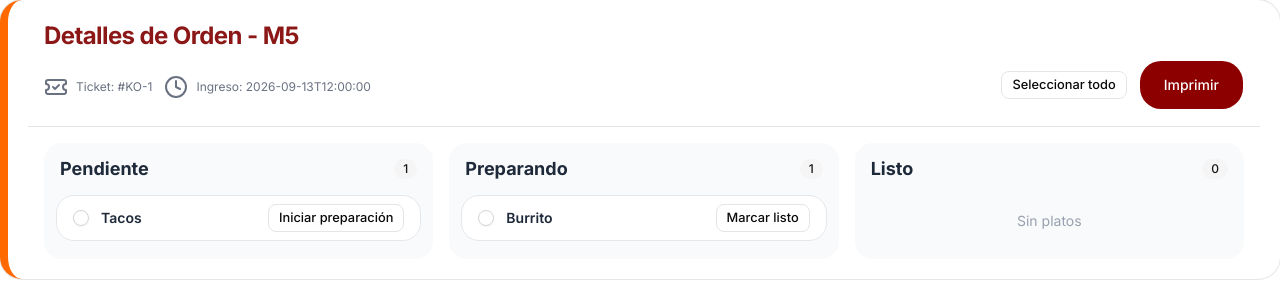
Scenario: FocusedCard bulk status selection › selection clears after a successful bulk update
The image size is (1280, 297).
Click the button "Seleccionar todo": [1064, 85] box [1002,71,1127,99]
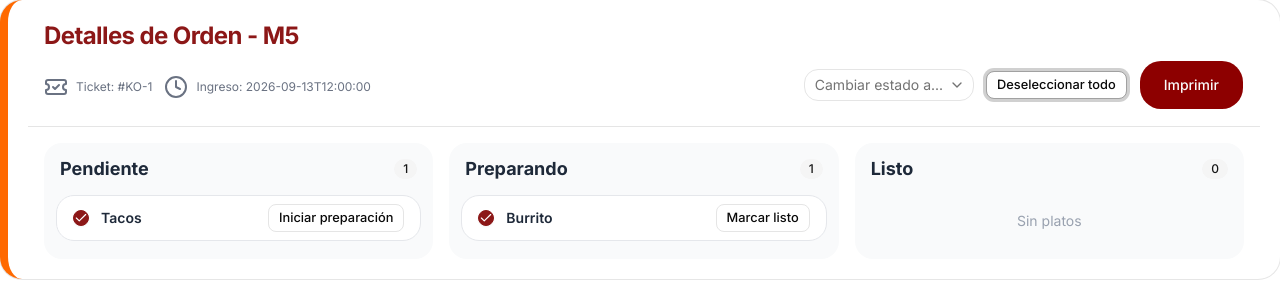
Click the dropdown: [889, 85] box [804,69,974,101]
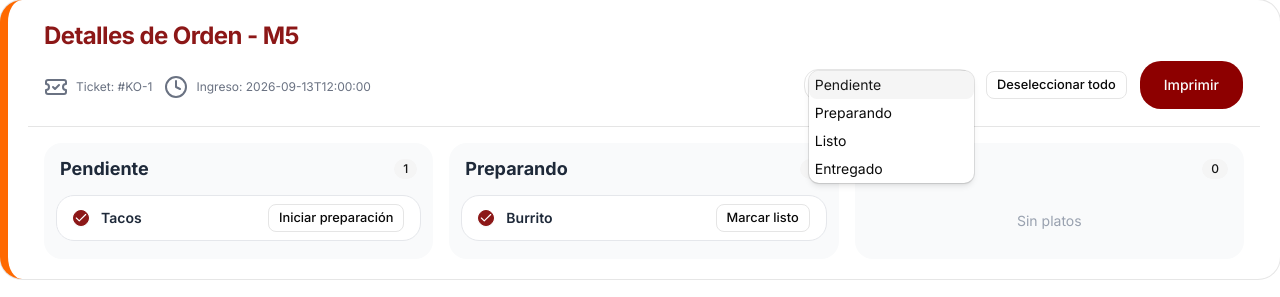
Click the option "Listo": [831, 140] box [815,132,846,149]
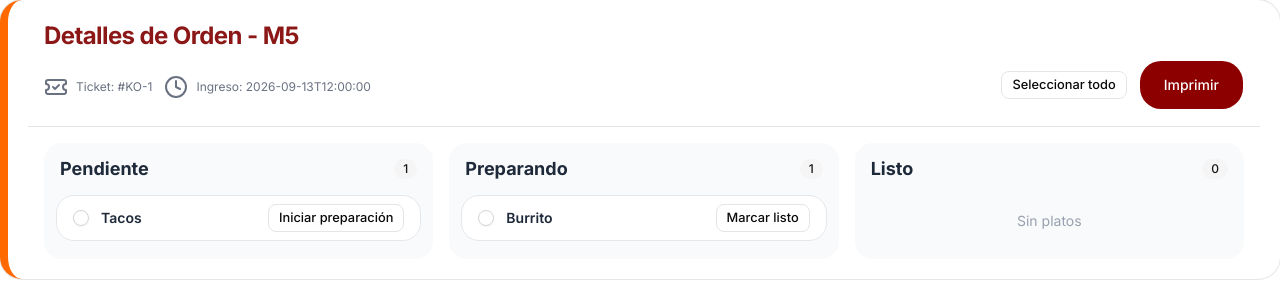
Expected: the button "Seleccionar todo" is shown, [1002,71,1127,99]
Expected: the dropdown "Cambiar estado a..." is gone
